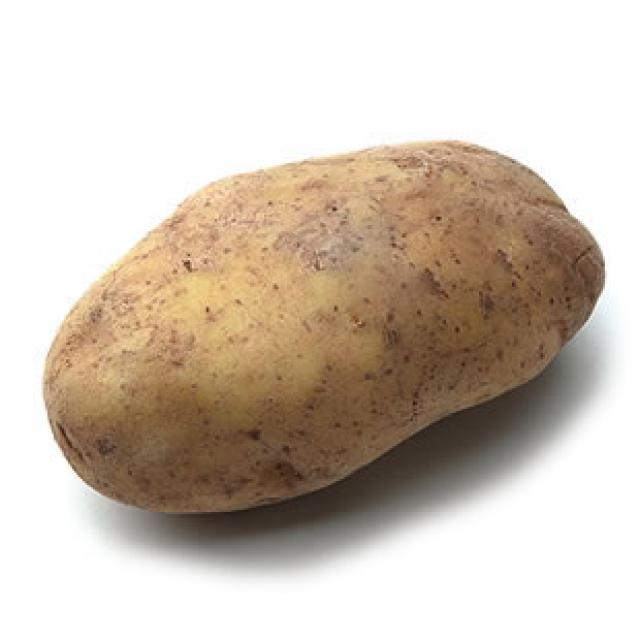potato: (32, 144, 602, 511)
